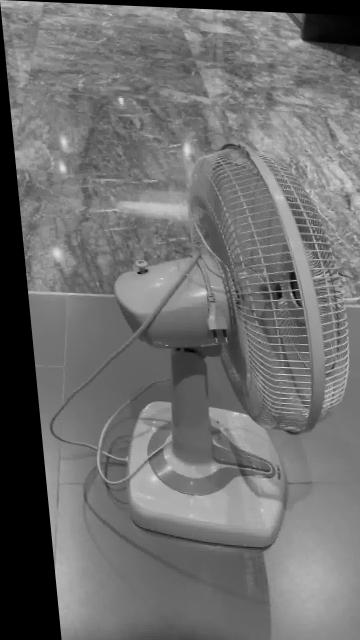Fan: (108, 140, 343, 550)
